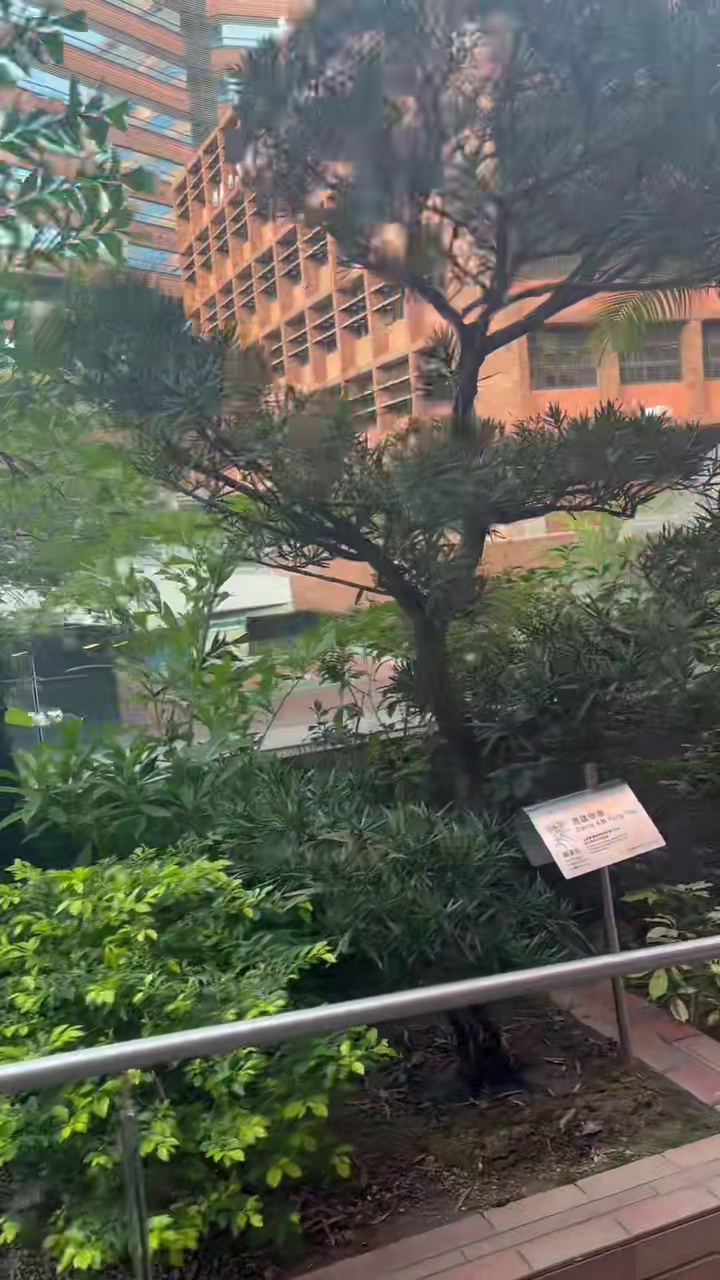Podocarpus macrophyllus: (53, 0, 719, 797)
